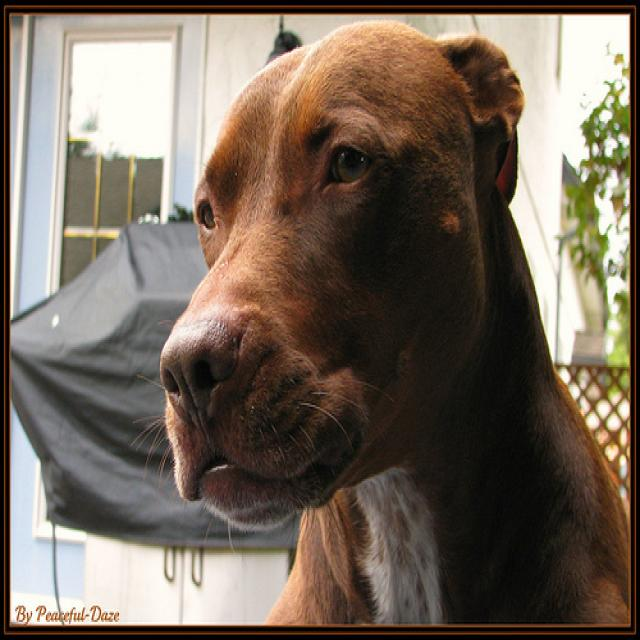dog-american_pit_bull_terrier: (124, 2, 637, 636)
